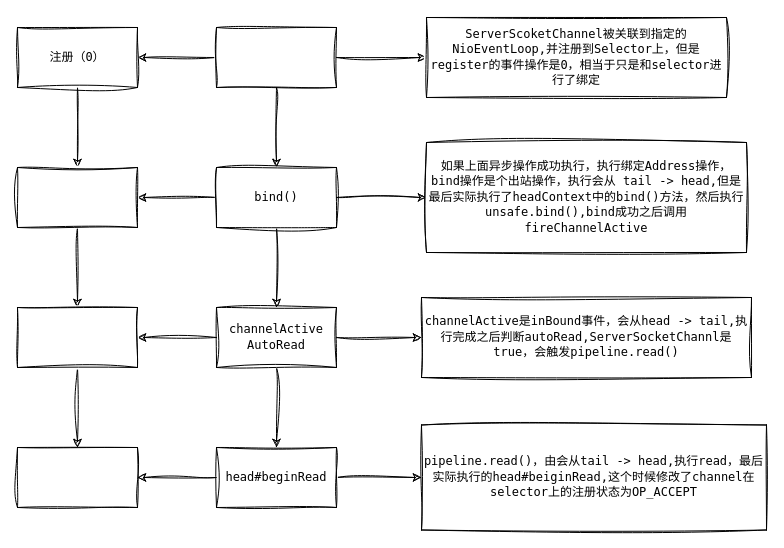
This 784x548 diagram has some shape labels left out. Here are the shapes that lost their labels. From the top down, the box of each, then its label:
(216, 26, 336, 88): initAndRegister
(16, 166, 138, 228): 监听端口
(16, 306, 138, 368): 激活
(16, 446, 138, 508): 修改监听操作(OP_ACCEPT)
